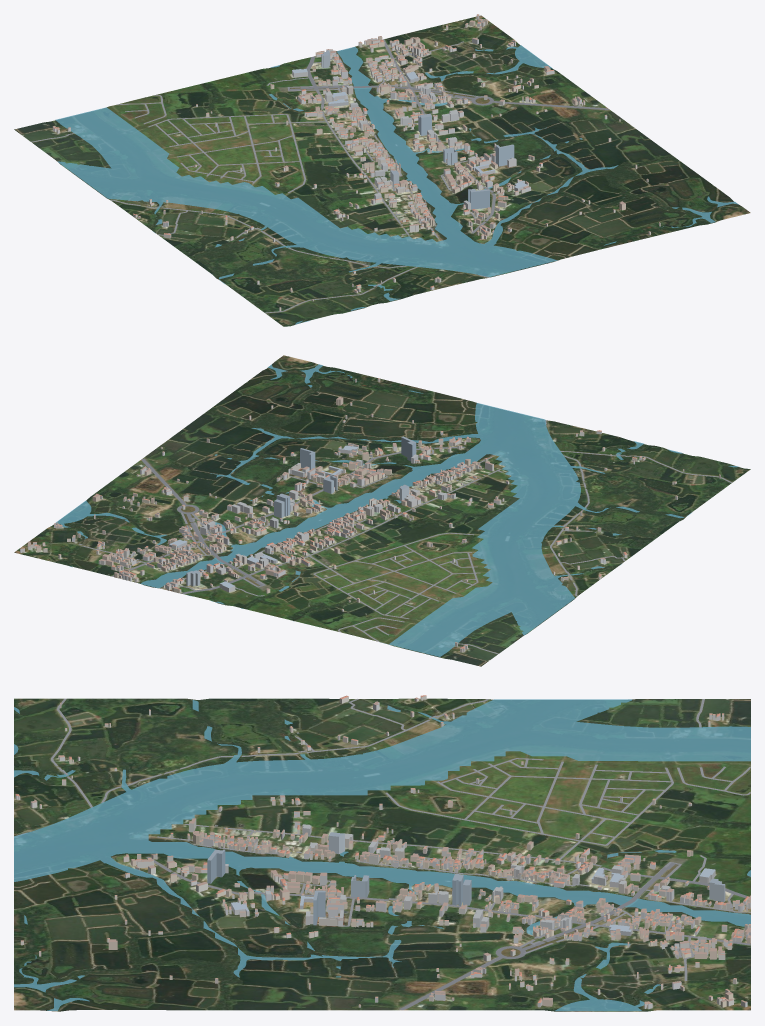
3 views of the same model, one above another, from view 1: azimuth 30°, elevation 25°; view 2: azimuth 150°, elevation 25°; view 3: azimuth 270°, elevation 25° (orthographic). The views are drawn at different scales.
Visible parts, largest first — view 1: TERRAIN, WATER, BLDG_SHOPHOUSE_VILLA, ROAD_METRO, BLDG_TUBE_HOUSE, BLDG_APARTMENT, BLDG_MODERN_TOWER, BLDG_INDUSTRIAL_PORT; view 2: TERRAIN, WATER, BLDG_SHOPHOUSE_VILLA, ROAD_METRO, BLDG_TUBE_HOUSE, BLDG_APARTMENT, BLDG_MODERN_TOWER, BLDG_INDUSTRIAL_PORT; view 3: TERRAIN, WATER, BLDG_SHOPHOUSE_VILLA, ROAD_METRO, BLDG_TUBE_HOUSE, BLDG_APARTMENT, BLDG_MODERN_TOWER, BLDG_INDUSTRIAL_PORT.
Boxes of the visible parts, x1,y1,x2,y2 form: TERRAIN: (14,15,750,326); WATER: (55,45,738,324); BLDG_SHOPHOUSE_VILLA: (53,18,625,289); ROAD_METRO: (31,39,608,313); BLDG_TUBE_HOUSE: (52,14,660,310); BLDG_APARTMENT: (325,76,516,209); BLDG_MODERN_TOWER: (321,50,514,209); BLDG_INDUSTRIAL_PORT: (292,69,527,191); TERRAIN: (14,355,750,666); WATER: (55,364,738,656); BLDG_SHOPHOUSE_VILLA: (27,397,637,651); ROAD_METRO: (79,420,731,654); BLDG_TUBE_HOUSE: (20,378,720,652); BLDG_APARTMENT: (200,454,447,574); BLDG_MODERN_TOWER: (186,436,416,585); BLDG_INDUSTRIAL_PORT: (169,445,357,592); TERRAIN: (14,698,750,1011); WATER: (14,699,750,1010); BLDG_SHOPHOUSE_VILLA: (15,695,750,1007); ROAD_METRO: (15,698,750,1009); BLDG_TUBE_HOUSE: (20,697,750,1009); BLDG_APARTMENT: (225,824,670,929); BLDG_MODERN_TOWER: (207,832,725,925); BLDG_INDUSTRIAL_PORT: (231,867,715,936).
Size of the model in its own units: 2000 by 80.27 by 2000.
8 materials, 1 textured.
